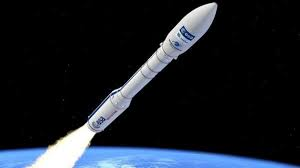ten_lua: (92, 7, 215, 141)
